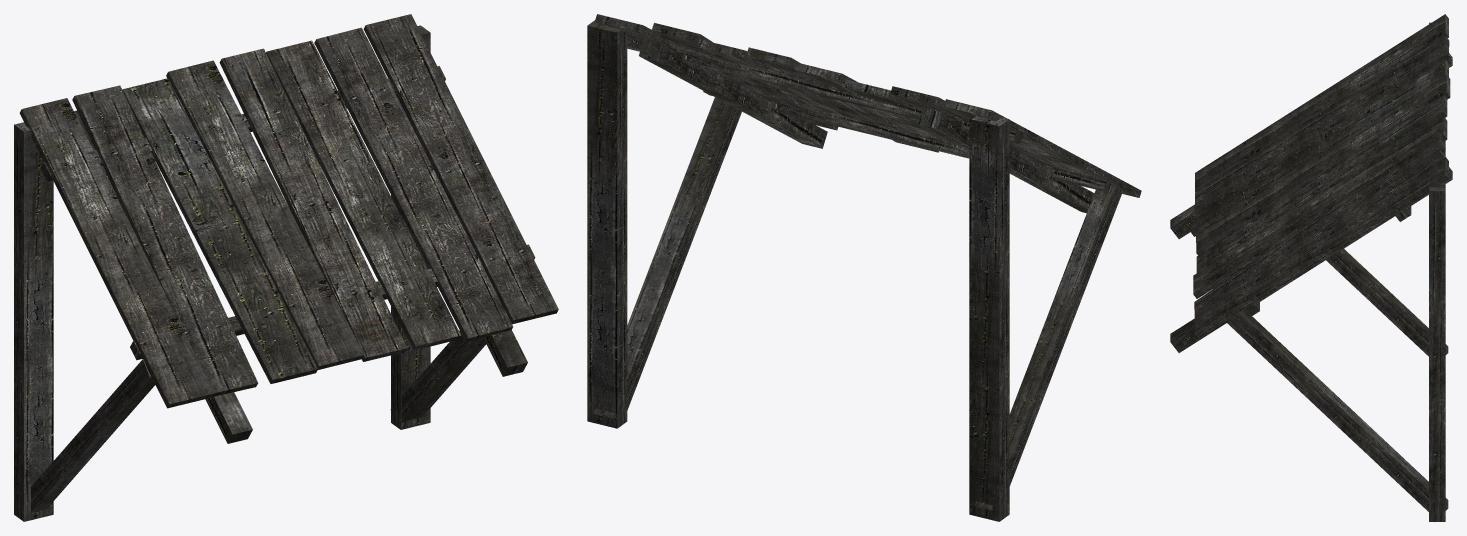
Rendered from Awning_3.fbx.
3 renders of one model, left to right at view 1: azimuth 30°, elevation 25°; view 2: azimuth 150°, elevation 25°; view 3: azimuth 270°, elevation 25°, orthographic. The views are drawn at different scales.
Parts seen in each view (by area): view 1: Awning_3; view 2: Awning_3; view 3: Awning_3.
Part boxes in pixels (box(x1,y1,x2,y2)): Awning_3: box(14, 14, 558, 521); Awning_3: box(587, 14, 1141, 521); Awning_3: box(1170, 14, 1452, 521).
Size of the model in its own units: 121 by 115 by 85.46.
